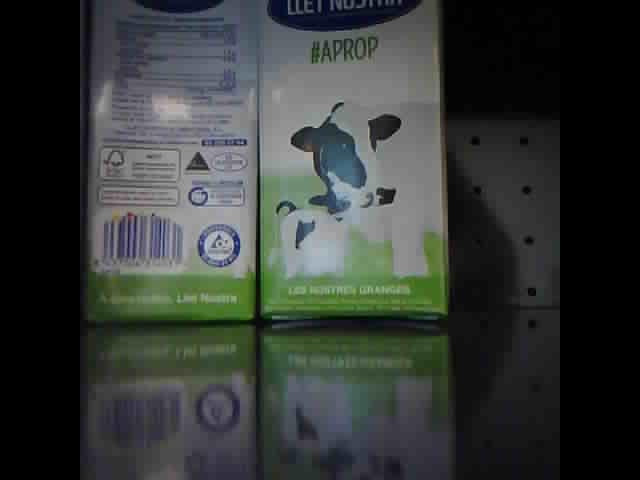leche: (259, 3, 446, 320), (82, 4, 255, 323)
